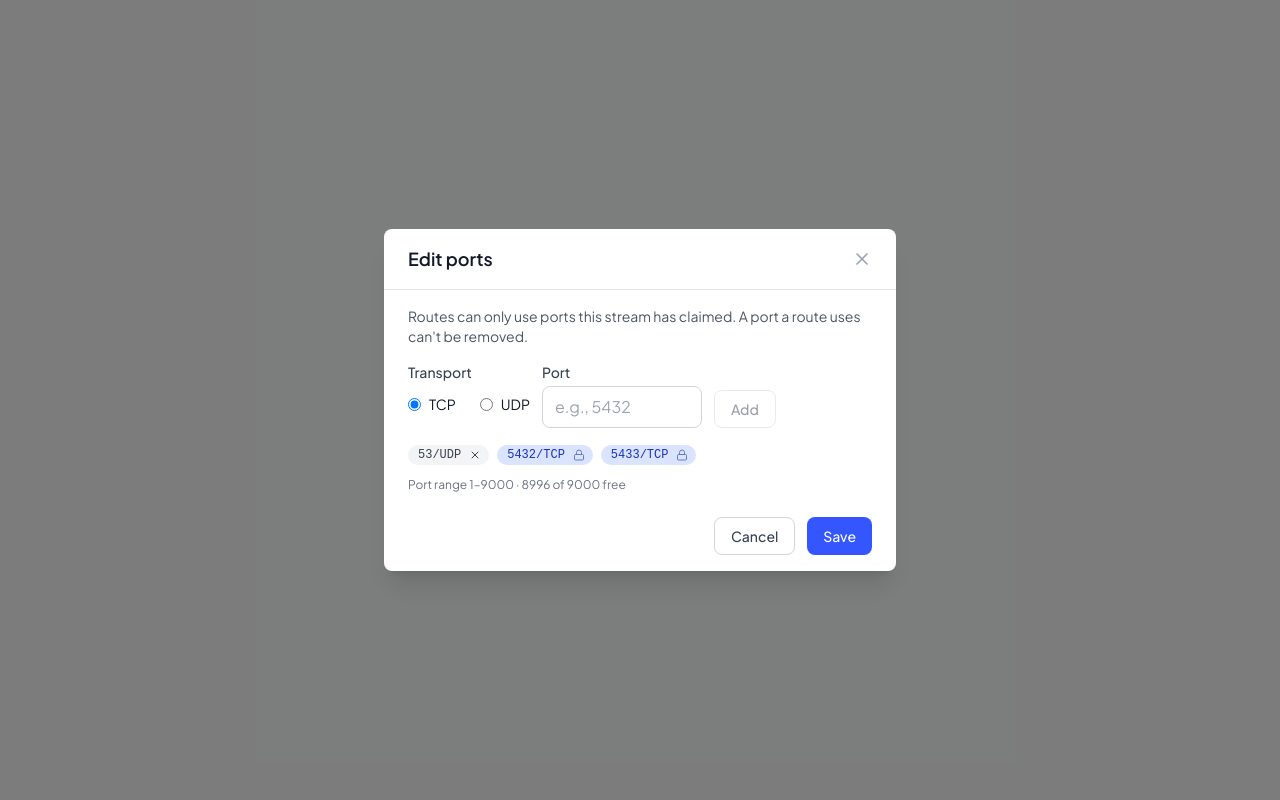
Test: a 409 shows under the picker and keeps the modal open
What coordinates should you click on to do the following:
click the button "Save"
I would click on:
 (840, 536)
Its box is left=807, top=517, right=872, bottom=555.
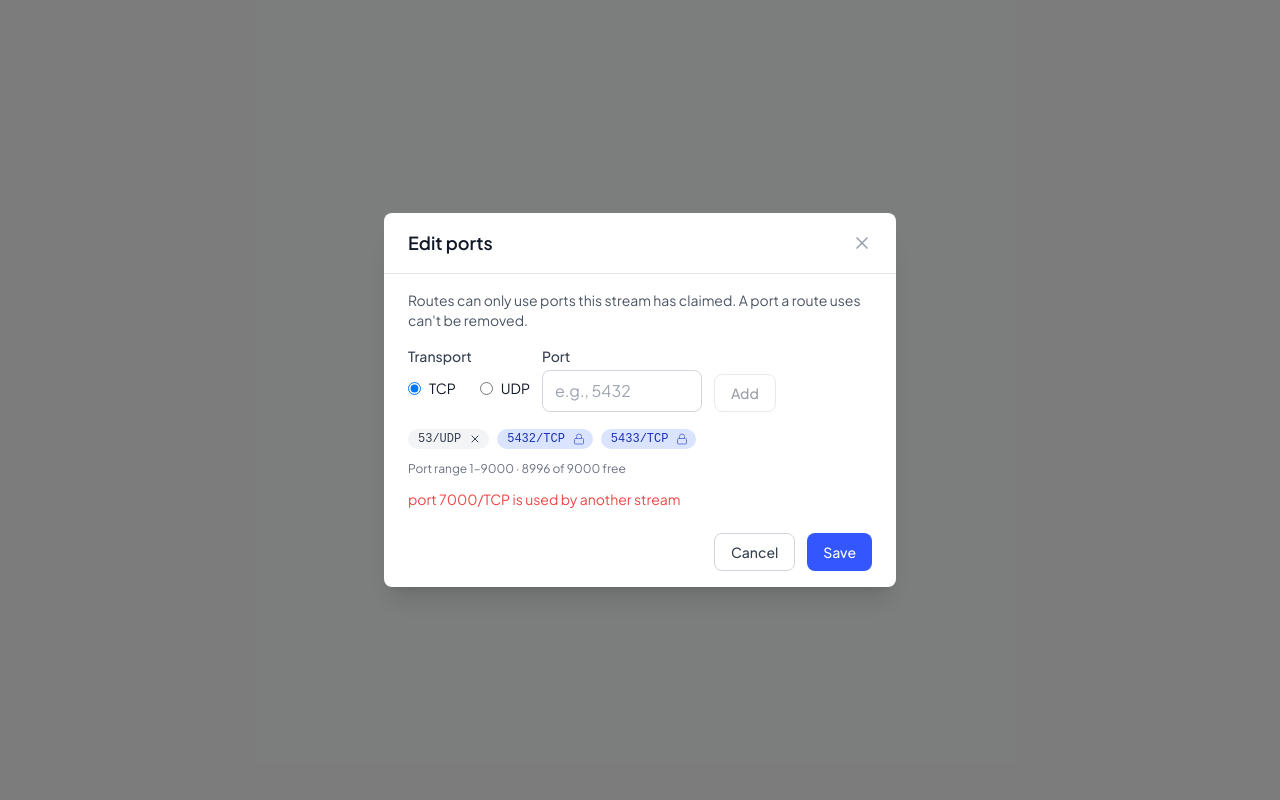
Expected: the button "Save" is enabled, left=807, top=533, right=872, bottom=571
Expected: the text "port 7000/TCP is used by another stream" is shown, left=408, top=490, right=680, bottom=508
